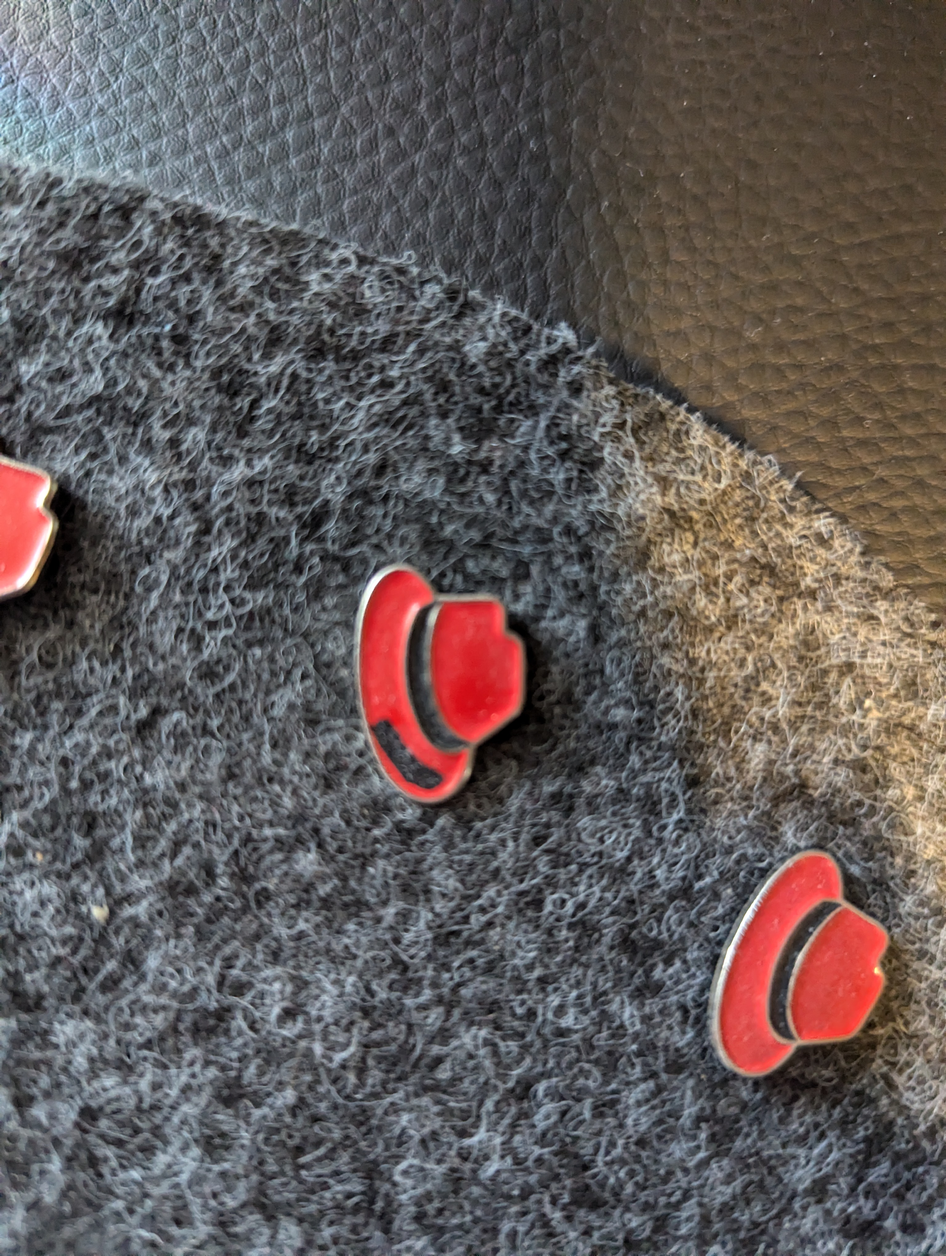Red-Hat: (318, 536, 542, 859), (682, 807, 907, 1084)
Scratch: (350, 695, 473, 828)
